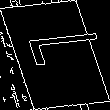L_E: (7, 35, 103, 75)
